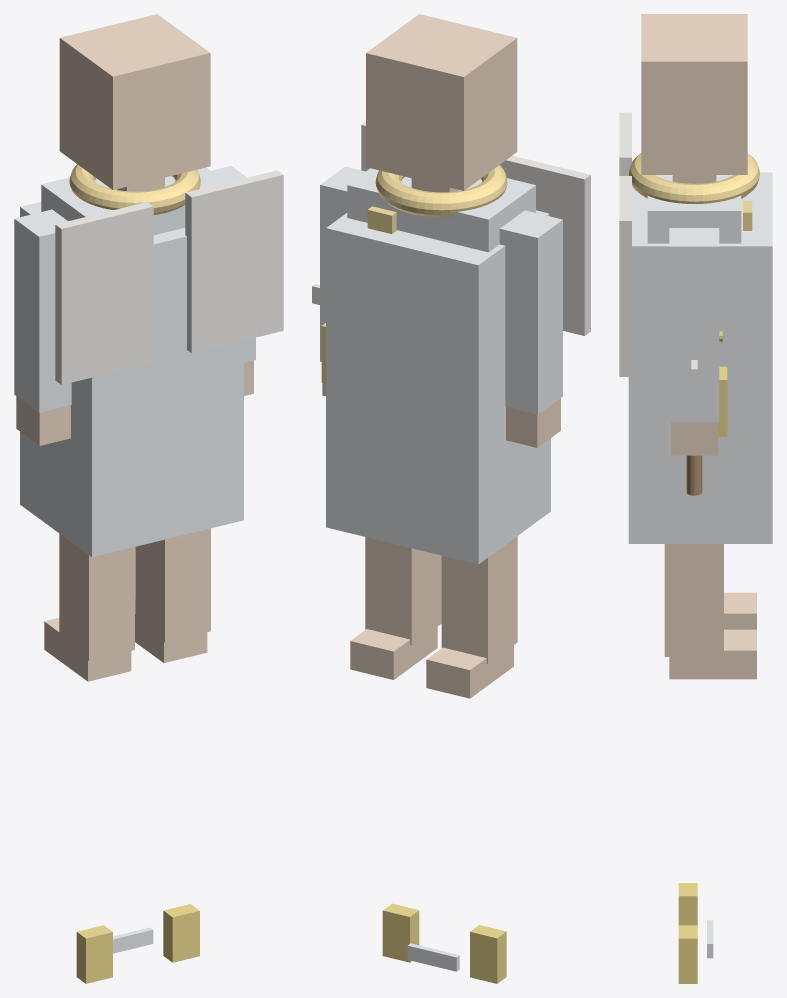
Rendered from hermes.glb.
3 views of the same model, side by side, from view 1: azimuth 30°, elevation 25°; view 2: azimuth 150°, elevation 25°; view 3: azimuth 270°, elevation 25° (orthographic).
Visible parts, largest first — view 1: outfit_tunic_0, head, outfit_wings_0, outfit_wings_1, arm_L_upper, leg_L_shin, leg_R_shin, outfit_scarf_0, torso, leg_L_foot, outfit_sandals_1, outfit_sandals_0 (+4 smaller); view 2: outfit_tunic_0, head, arm_L_upper, leg_L_shin, leg_R_shin, outfit_wings_0, torso, outfit_scarf_0, leg_L_foot, leg_R_foot, arm_R_upper, outfit_sandals_0 (+4 smaller); view 3: outfit_tunic_0, head, arm_R_upper, leg_R_shin, torso, outfit_scarf_0, leg_R_foot, outfit_wings_1, arm_R_hand, leg_L_foot, outfit_sandals_1, prop (+4 smaller).
Boxes of the visible parts, bbox=[...] form: outfit_tunic_0: bbox=[20, 202, 243, 557]; head: bbox=[59, 14, 210, 189]; outfit_wings_0: bbox=[55, 202, 153, 384]; outfit_wings_1: bbox=[185, 170, 283, 353]; arm_L_upper: bbox=[14, 209, 71, 412]; leg_L_shin: bbox=[59, 533, 134, 660]; leg_R_shin: bbox=[135, 528, 210, 642]; outfit_scarf_0: bbox=[69, 164, 200, 214]; torso: bbox=[41, 167, 226, 234]; leg_L_foot: bbox=[44, 618, 131, 681]; outfit_sandals_1: bbox=[163, 904, 199, 962]; outfit_sandals_0: bbox=[76, 925, 112, 983]; outfit_tunic_0: bbox=[326, 210, 550, 564]; head: bbox=[366, 14, 517, 190]; arm_L_upper: bbox=[499, 210, 562, 414]; leg_L_shin: bbox=[441, 536, 517, 663]; leg_R_shin: bbox=[365, 537, 441, 645]; outfit_wings_0: bbox=[500, 155, 590, 335]; torso: bbox=[347, 168, 535, 252]; outfit_scarf_0: bbox=[375, 165, 507, 217]; leg_L_foot: bbox=[426, 645, 513, 698]; leg_R_foot: bbox=[350, 627, 437, 679]; arm_R_upper: bbox=[320, 166, 365, 361]; outfit_sandals_0: bbox=[470, 925, 506, 983]; outfit_tunic_0: bbox=[628, 172, 772, 543]; head: bbox=[641, 14, 747, 174]; arm_R_upper: bbox=[669, 228, 719, 422]; leg_R_shin: bbox=[664, 544, 723, 656]; torso: bbox=[647, 175, 741, 243]; outfit_scarf_0: bbox=[628, 153, 759, 203]; leg_R_foot: bbox=[669, 629, 756, 679]; outfit_wings_1: bbox=[619, 176, 631, 376]; arm_R_hand: bbox=[671, 422, 717, 455]; leg_L_foot: bbox=[724, 592, 756, 629]; outfit_sandals_1: bbox=[678, 925, 697, 983]; prop: bbox=[686, 330, 722, 495].
Bounding box in the file's own units: 0.88 × 3.24 × 0.49.
